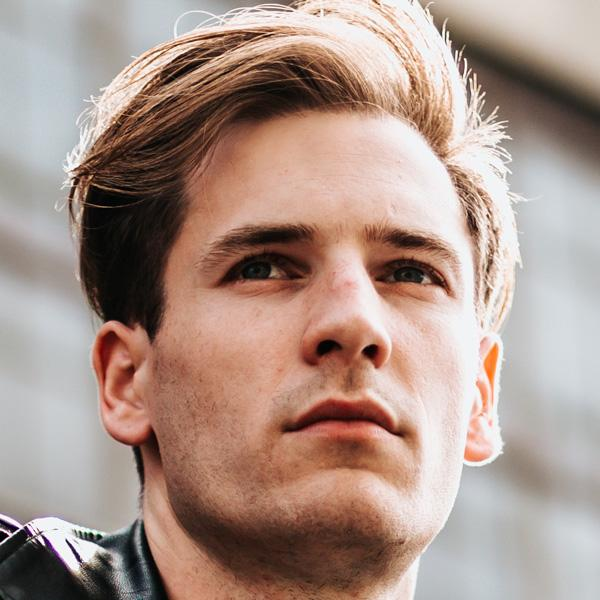Eyes: (365, 241, 462, 306), (211, 242, 316, 301)
